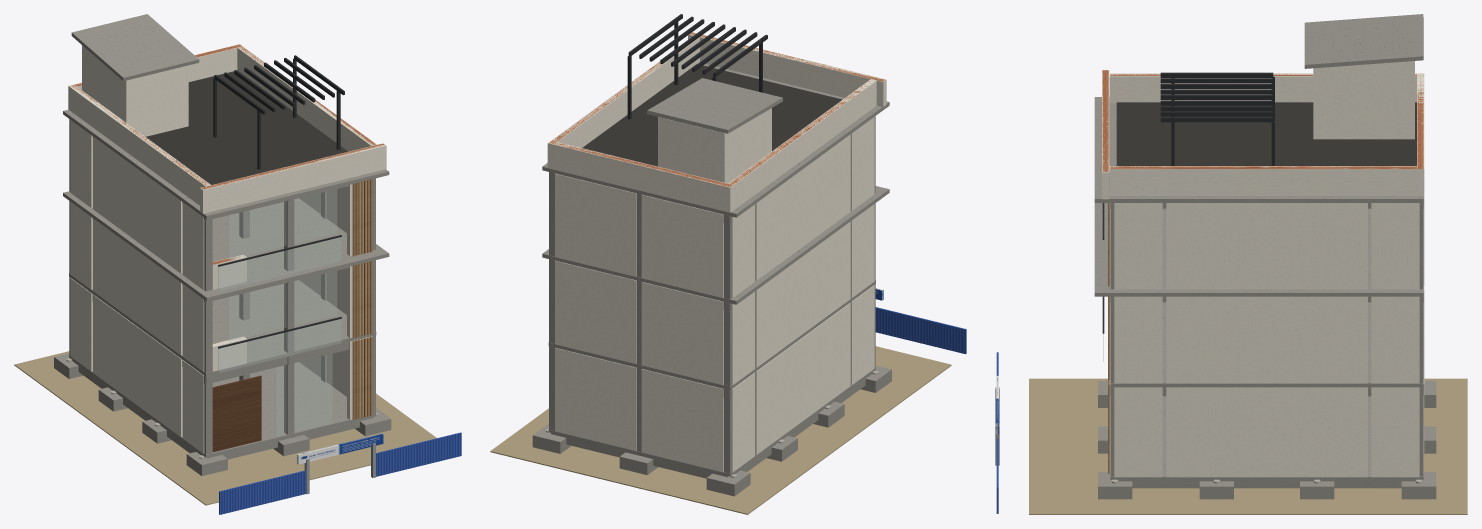
File: phase-5.glb
The picture shows the model from 3 angles, left to right: view 1: azimuth 30°, elevation 25°; view 2: azimuth 150°, elevation 25°; view 3: azimuth 270°, elevation 25°; orthographic projection. The views are drawn at different scales.
Bounding box in the file's own units: 10.2 × 13.63 × 15.07.
Materials: 13 (7 with a texture image).
